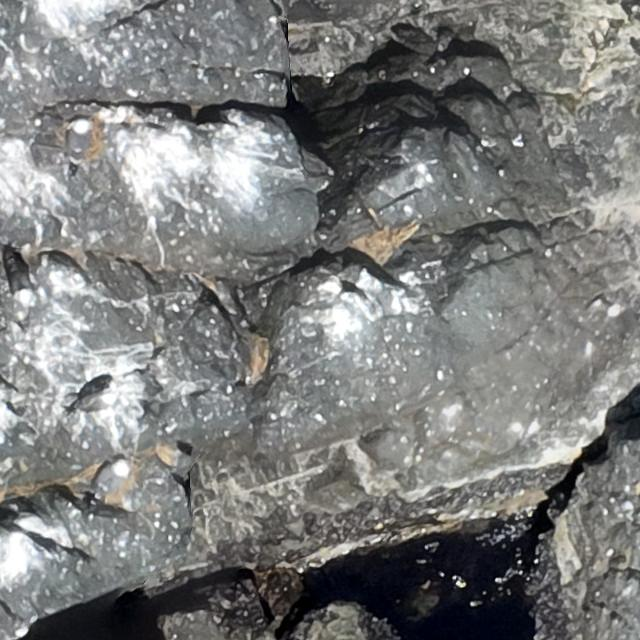umineko: (4, 243, 33, 311), (73, 388, 118, 413), (97, 461, 128, 491), (68, 121, 88, 158), (0, 432, 8, 446)
